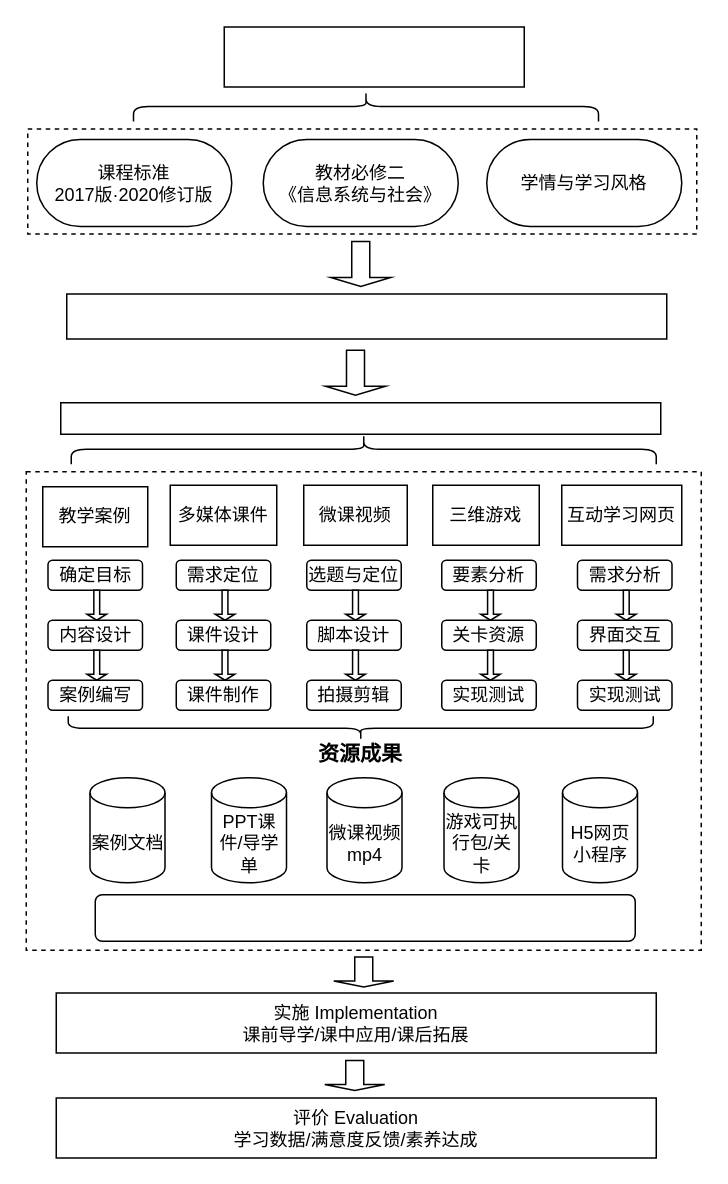
This 728x1184 diagram has some shape labels left out. Each missing label, with the centre of its shape:
分析 Analysis: the point at 373,56
开发Devlepment: the point at 360,417
设计 Design 目标→脚本→规格: the point at 366,315
资源测试与发布 内容校验｜功能测试｜课堂试用｜打包发布: the point at 364,917
